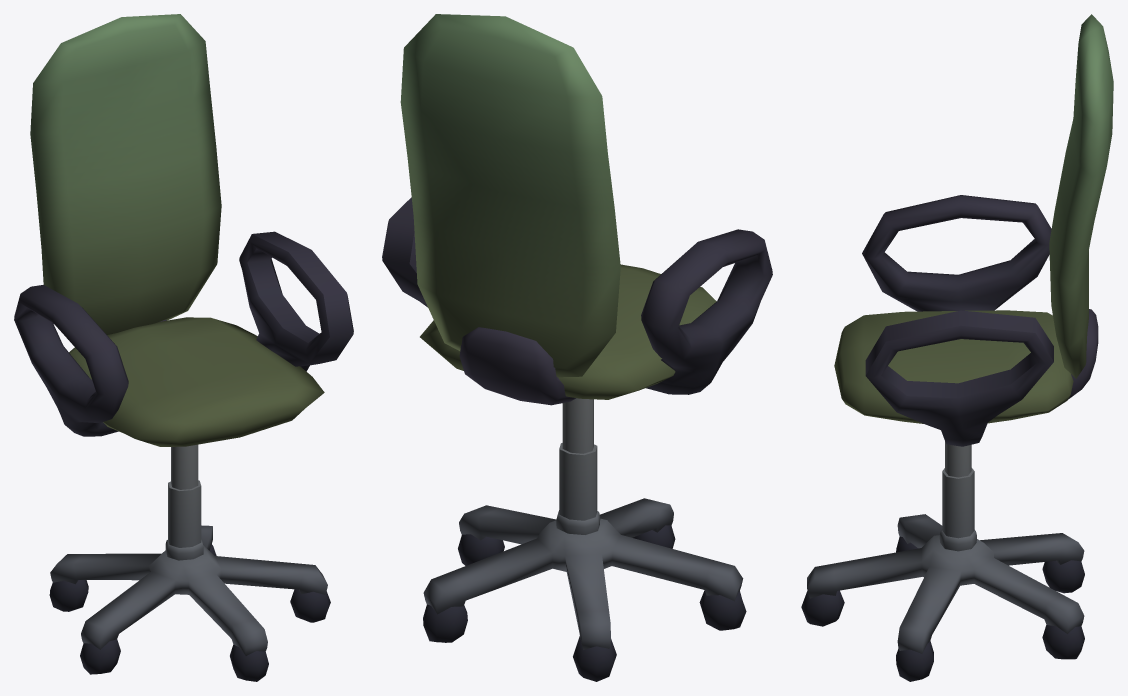
Rendered from chair.glb.
3 views of the same model, side by side, from view 1: azimuth 30°, elevation 25°; view 2: azimuth 150°, elevation 25°; view 3: azimuth 270°, elevation 25° (orthographic). The views are drawn at different scales.
Parts seen in each view (by area): view 1: chair; view 2: chair; view 3: chair.
Boxes of the visible parts, x1=… form: chair: x1=14, y1=14, x2=353, y2=681; chair: x1=382, y1=14, x2=772, y2=681; chair: x1=801, y1=14, x2=1113, y2=681.
Size of the model in its own units: 0.5565 by 1.15 by 0.5464.
1 material, 1 textured.
